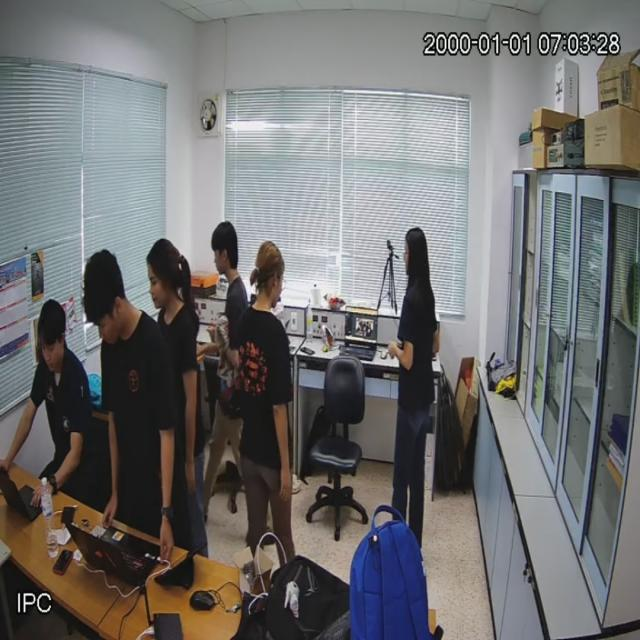normal: (77, 251, 180, 553), (243, 238, 303, 555), (391, 219, 443, 553), (26, 298, 96, 522), (196, 222, 246, 534)
